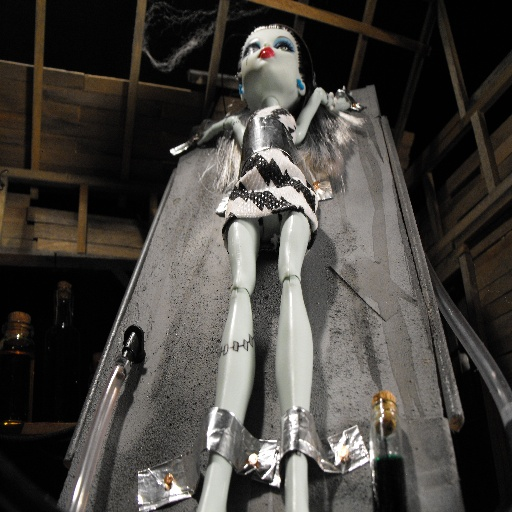hand: (330, 89, 351, 114), (195, 127, 210, 147)
